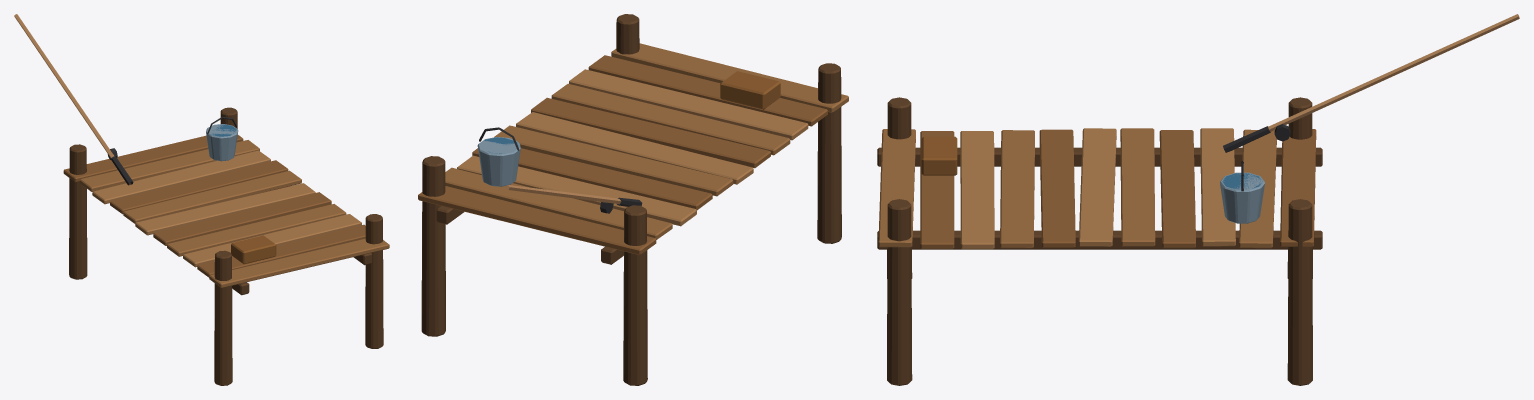
File: pier.glb
3 views of the same model, side by side, from view 1: azimuth 30°, elevation 25°; view 2: azimuth 150°, elevation 25°; view 3: azimuth 270°, elevation 25° (orthographic). The views are drawn at different scales.
Visible parts, largest first — view 1: pier; view 2: pier; view 3: pier.
Part boxes in pixels (x1,y1,x2,y2): pier: (14,14,389,385); pier: (418,14,848,385); pier: (877,14,1519,385).
Bounding box in the file's own units: 3.07 × 3.43 × 7.21.
